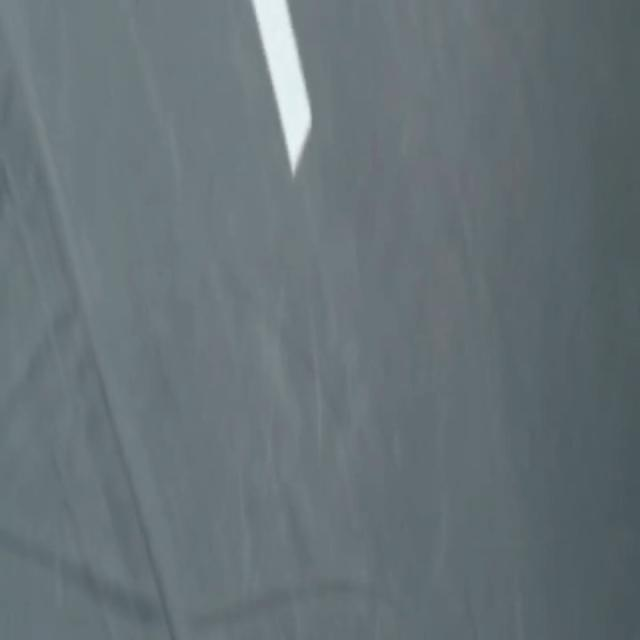center: (251, 0, 312, 177)
